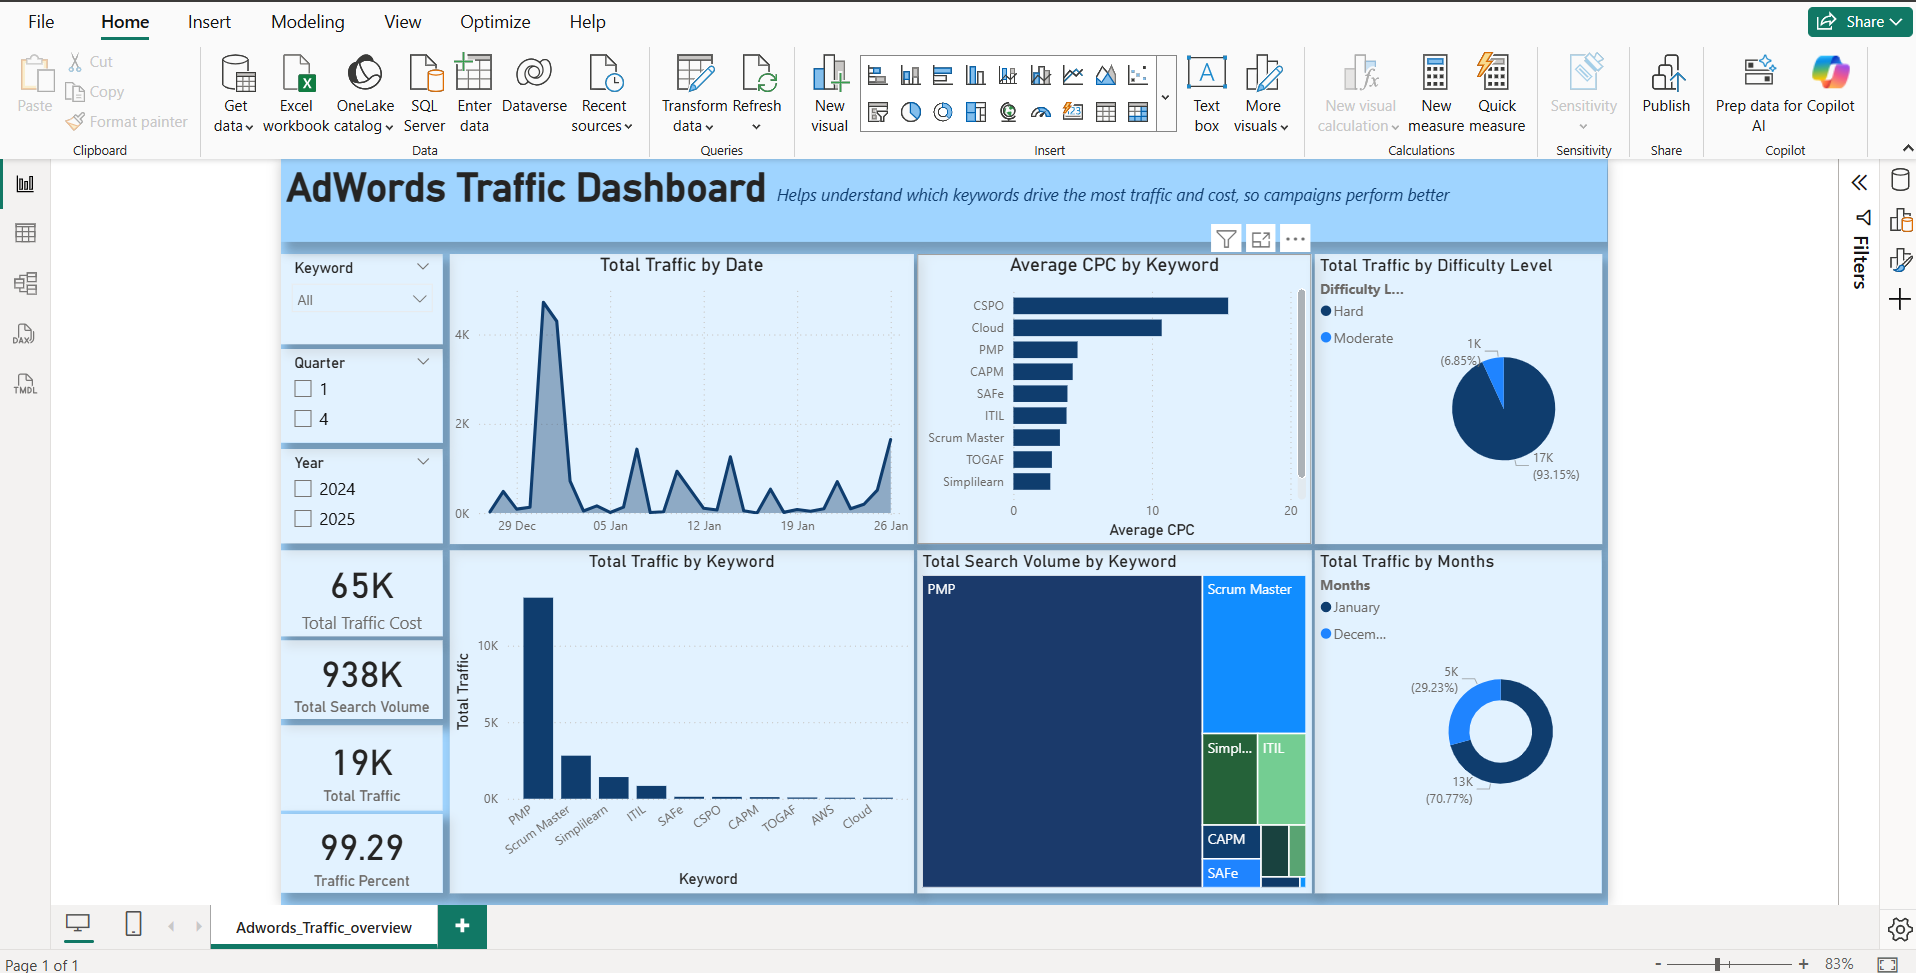

This screenshot's page, from the dashboard's own definition file:
{"tool":"powerbi","page":{"name":"Adwords_Traffic_overview","canvas":[1280,720],"ordinal":0},"visuals":[{"type":"slicer","fields":{"Values":["keyword.Keyword Label"]},"box":[0,91.2,156.2,87.5],"z":0},{"type":"slicer","fields":{"Values":["Calendar.Quarter"]},"box":[0,183.3,156.4,90.6],"z":1000},{"type":"slicer","fields":{"Values":["Calendar.Year"]},"box":[0,280,156.4,90.8],"z":2000},{"type":"card","fields":{"Values":["DAX Measures.Total Traffic Cost"]},"box":[0,377.5,156.4,83.3],"z":3000},{"type":"card","fields":{"Values":["DAX Measures.Total Search Volume"]},"box":[0,464.4,156.4,76.1],"z":4000},{"type":"card","fields":{"Values":["DAX Measures.Total Traffic"]},"box":[0,546.2,156.2,82.5],"z":5000},{"type":"card","fields":{"Values":["DAX Measures.Traffic Percent"]},"box":[0,632.2,156.4,75.8],"z":6000},{"type":"textbox","box":[0,0,1280,80],"z":7000},{"type":"lineChart","title":"Total Traffic by Date","fields":{"Y":["DAX Measures.Total Traffic"],"Category":["Calender.Date.Variation.Date Hierarchy.Year","Calender.Date.Variation.Date Hierarchy.Quarter","Calender.Date.Variation.Date Hierarchy.Month","Calender.Date.Variation.Date Hierarchy.Day"]},"box":[162.8,91.4,447.8,280.3],"z":8000},{"type":"columnChart","fields":{"Category":["keyword.Keyword "],"Y":["DAX Measures.Total Traffic"]},"box":[162.8,377.5,447.8,330.8],"z":9000},{"type":"clusteredBarChart","title":"Average CPC by Keyword","fields":{"Category":["keyword.Keyword "],"Y":["DAX Measures.Average CPC"]},"box":[613.6,91.2,380.4,280],"z":10000},{"type":"treemap","fields":{"Group":["keyword.Keyword "],"Values":["DAX Measures.Total Search Volume"]},"box":[613.5,377.6,380.5,330.8],"z":11000},{"type":"pieChart","fields":{"Y":["DAX Measures.Total Traffic"],"Series":["keyword_difficulty.Difficulty Level"]},"box":[998,91.2,277.2,280],"z":12000},{"type":"donutChart","fields":{"Category":["Calender.Months"],"Y":["DAX Measures.Total Traffic"]},"box":[997.9,377.4,277.2,331],"z":13000}]}

Visuals, with their boxes on the page's 1280x720 design canvas (x1, y1, x2, y2). These are canvas units, not pixel positions in the 1916x973 screenshot, which may show the page scaled, cropped or inside an application window:
slicer - keyword.Keyword Label: box(0, 91, 156, 179)
slicer - Calendar.Quarter: box(0, 183, 156, 274)
slicer - Calendar.Year: box(0, 280, 156, 371)
card - DAX Measures.Total Traffic Cost: box(0, 378, 156, 461)
card - DAX Measures.Total Search Volume: box(0, 464, 156, 540)
card - DAX Measures.Total Traffic: box(0, 546, 156, 629)
card - DAX Measures.Traffic Percent: box(0, 632, 156, 708)
textbox: box(0, 0, 1280, 80)
"Total Traffic by Date" lineChart: box(163, 91, 611, 372)
columnChart - keyword.Keyword  x DAX Measures.Total Traffic: box(163, 378, 611, 708)
"Average CPC by Keyword" clusteredBarChart: box(614, 91, 994, 371)
treemap - keyword.Keyword  x DAX Measures.Total Search Volume: box(614, 378, 994, 708)
pieChart - DAX Measures.Total Traffic x keyword_difficulty.Difficulty Level: box(998, 91, 1275, 371)
donutChart - Calender.Months x DAX Measures.Total Traffic: box(998, 377, 1275, 708)
